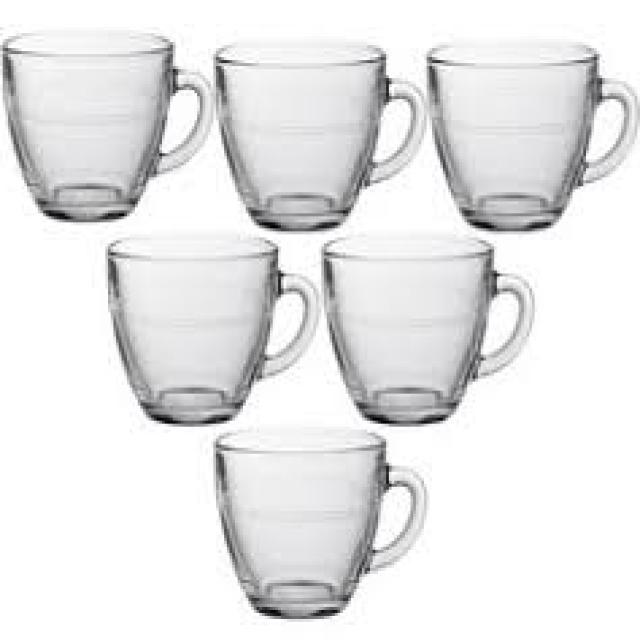Glass: (421, 34, 636, 230), (2, 29, 220, 222), (320, 233, 534, 427), (106, 230, 317, 426), (212, 428, 424, 622), (215, 38, 423, 232)
